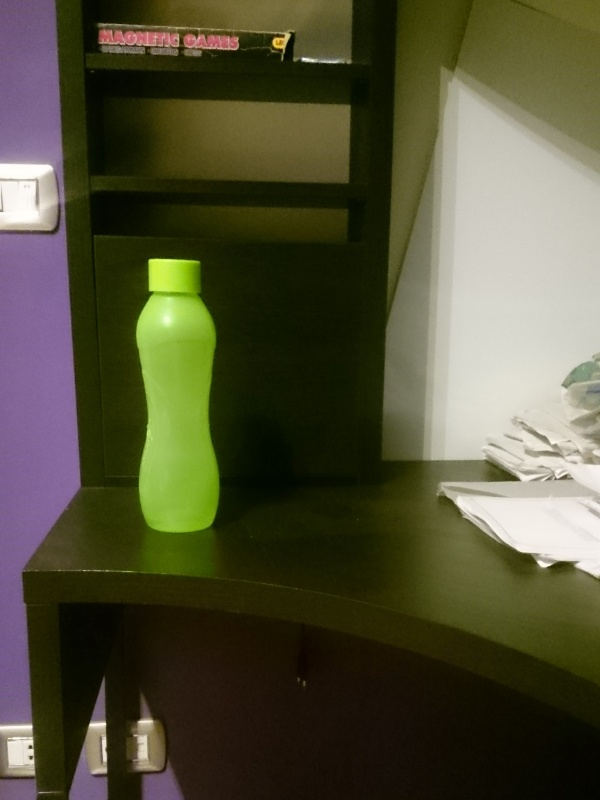my bottle: (134, 252, 221, 535)
